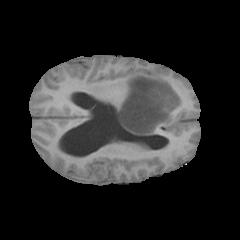glioma: (104, 70, 182, 135)
